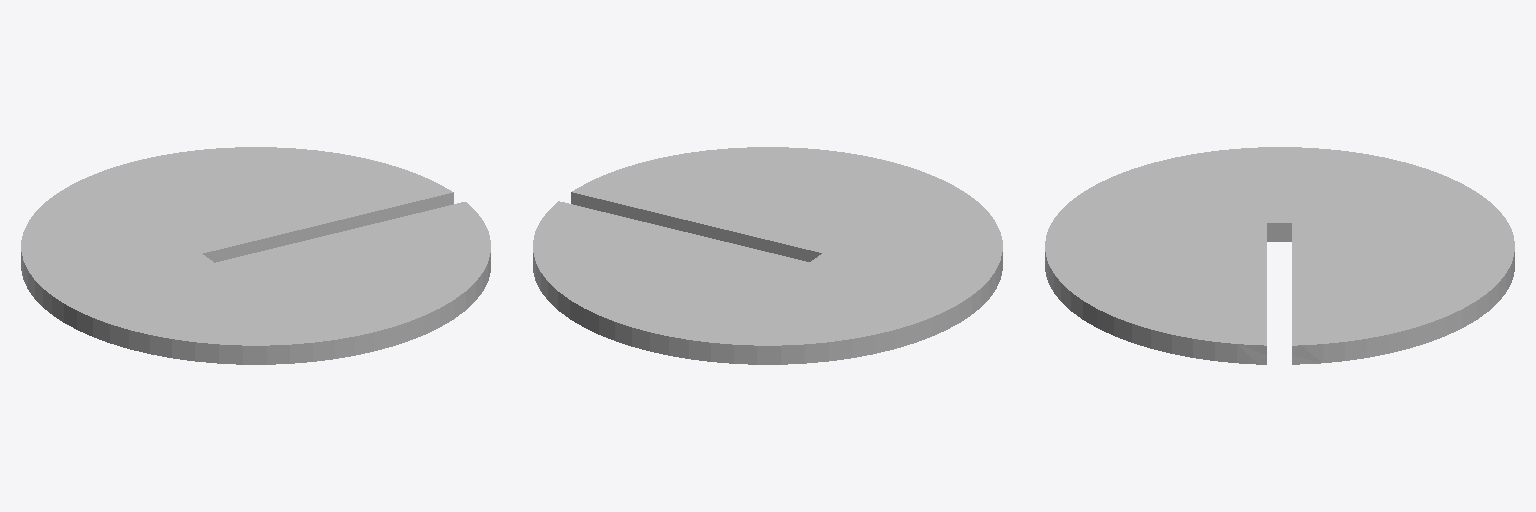
The model's file is cover.obj.
The picture shows the model from 3 angles: view 1: azimuth 30°, elevation 25°; view 2: azimuth 150°, elevation 25°; view 3: azimuth 270°, elevation 25°; orthographic projection.
Parts seen in each view (by area): view 1: object_1; view 2: object_1; view 3: object_1.
Part boxes in pixels (x1,y1,x2,y2): object_1: (21,147,490,364); object_1: (533,147,1002,364); object_1: (1045,147,1514,364).
Bounding box in the file's own units: 2.21 × 0.1 × 2.21.